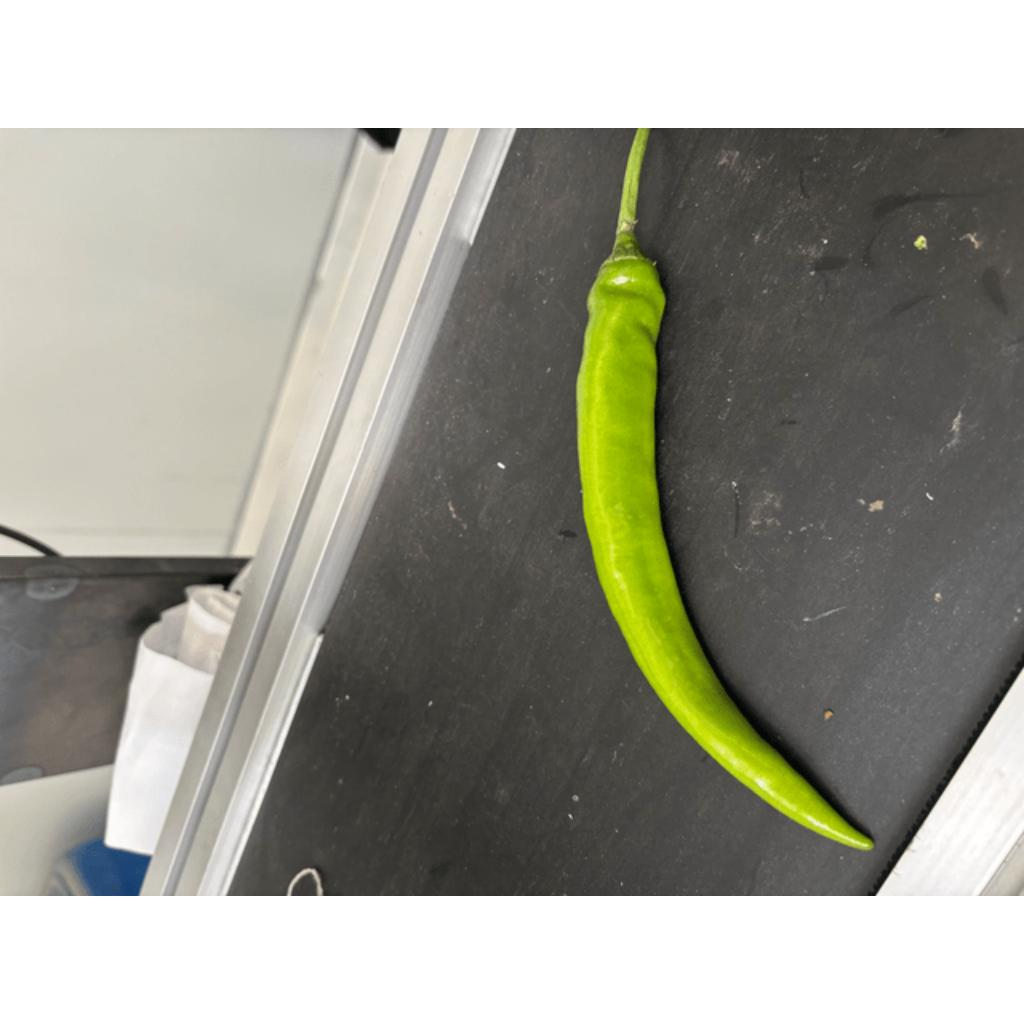chili: (574, 244, 881, 851)
